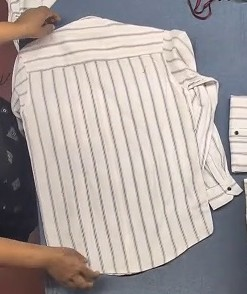SHIRT: (14, 65, 234, 253)
